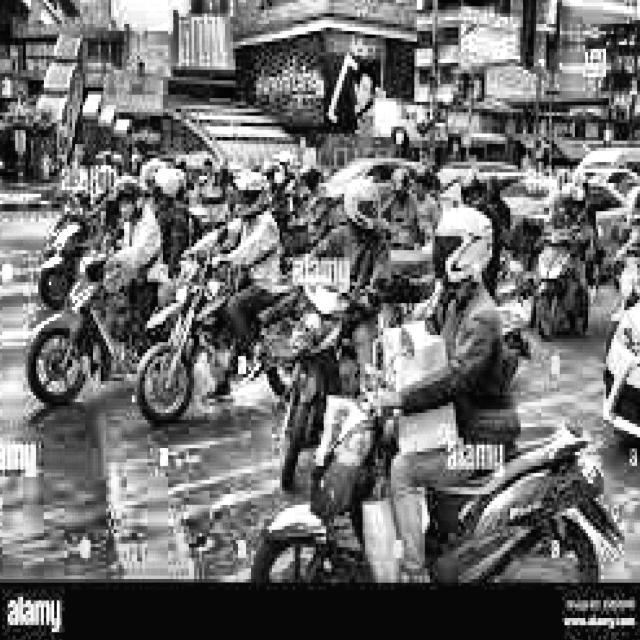Helmet: (424, 189, 496, 298), (226, 163, 278, 231), (342, 181, 390, 245)
